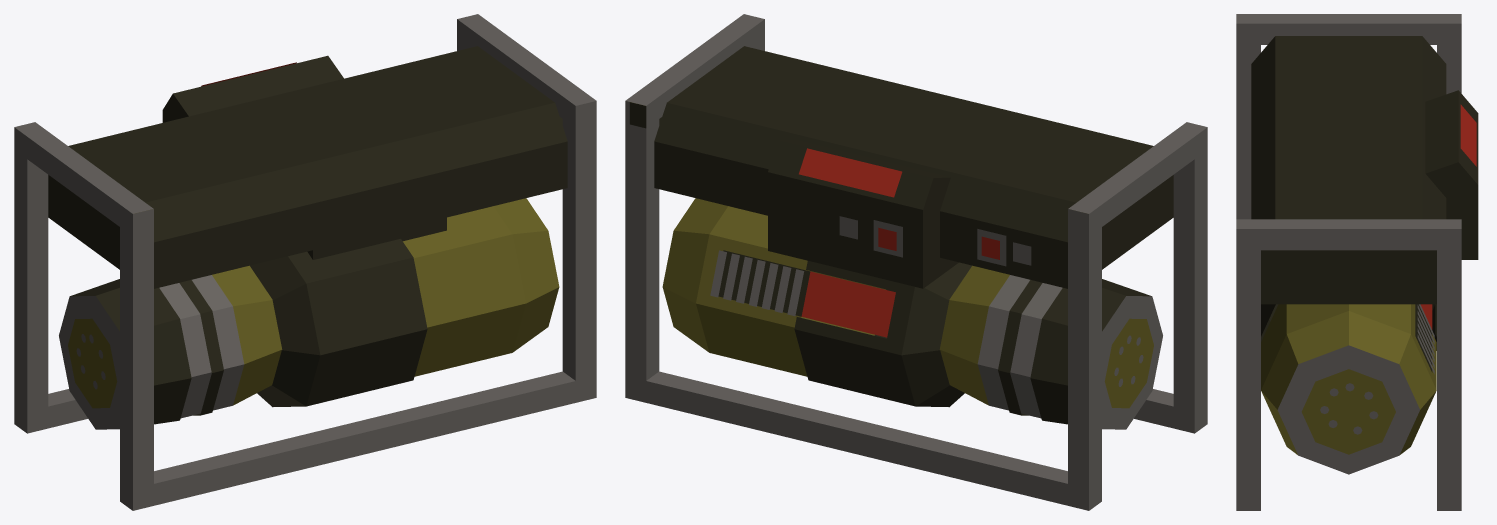
File: Generador.fbx
3 renders of one model, left to right at view 1: azimuth 30°, elevation 25°; view 2: azimuth 150°, elevation 25°; view 3: azimuth 270°, elevation 25°, orthographic. The views are drawn at different scales.
Visible parts, largest first — view 1: Cylinder.001; view 2: Cylinder.001; view 3: Cylinder.001.
Part boxes in pixels (x1,y1,x2,y2): Cylinder.001: [14, 14, 596, 510]; Cylinder.001: [625, 14, 1207, 510]; Cylinder.001: [1236, 14, 1478, 510].
Bounding box in the file's own units: 209 × 128 × 101.
Materials: 1 (1 with a texture image).
